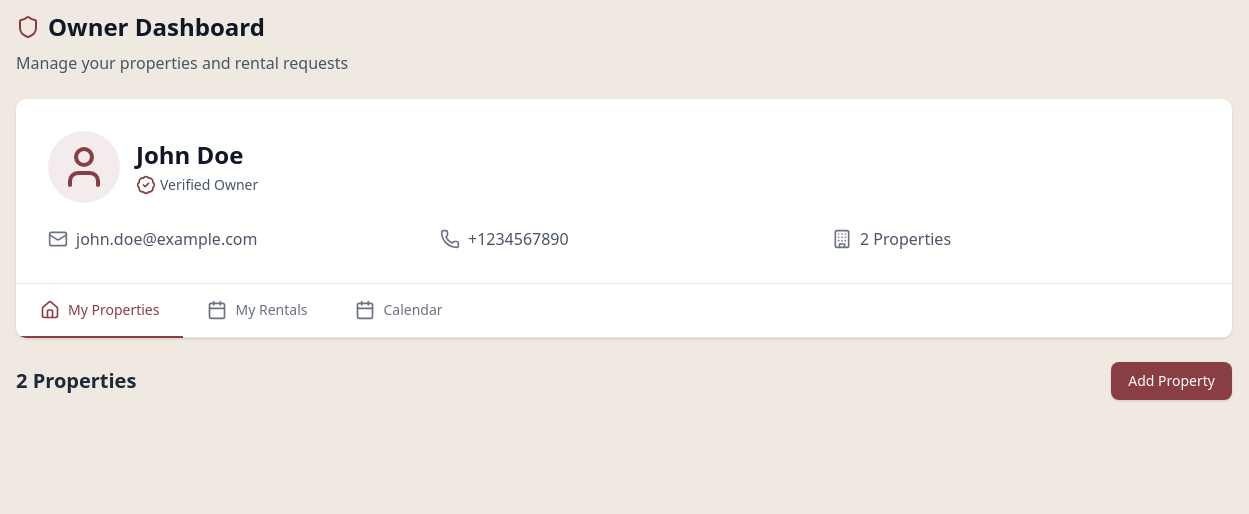
Test: OwnerProfilePage › Calendar Tab › should show error state for calendar rentals
Switch to calendar tab
Click the button "Calendar" at [399, 311], box top-left (332, 284), bottom-right (467, 338)
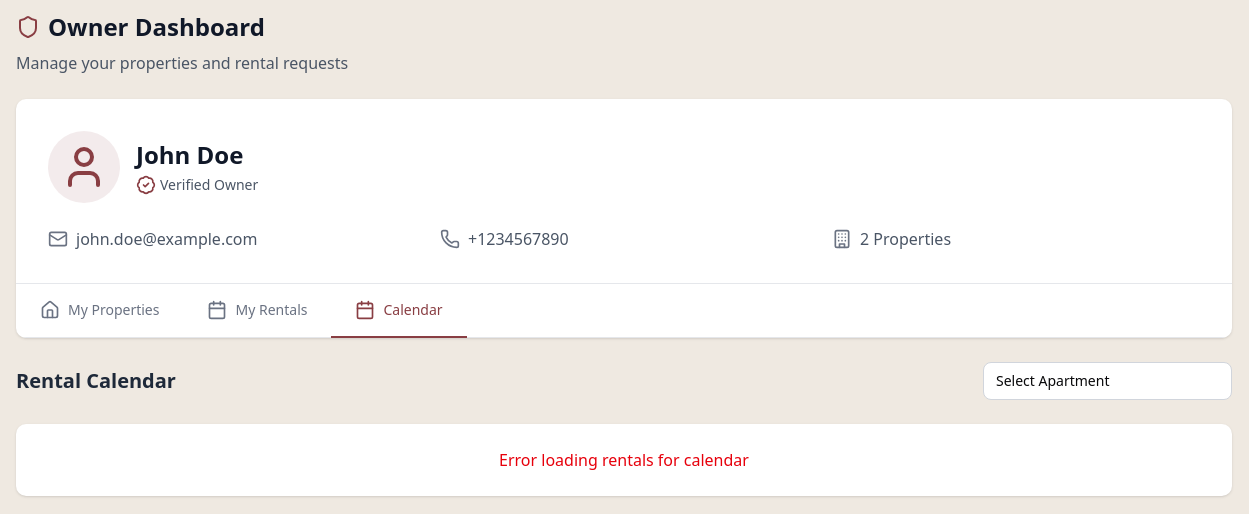
Expected: the text "Error loading rentals for calendar" is shown, top-left (499, 449), bottom-right (749, 471)
